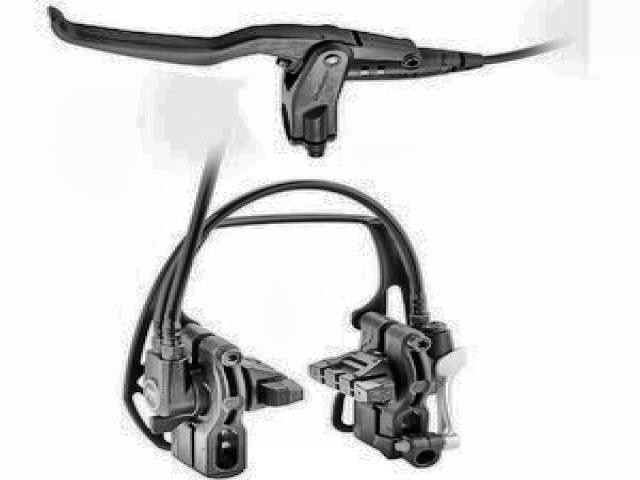rim_brake: (124, 203, 462, 480)
